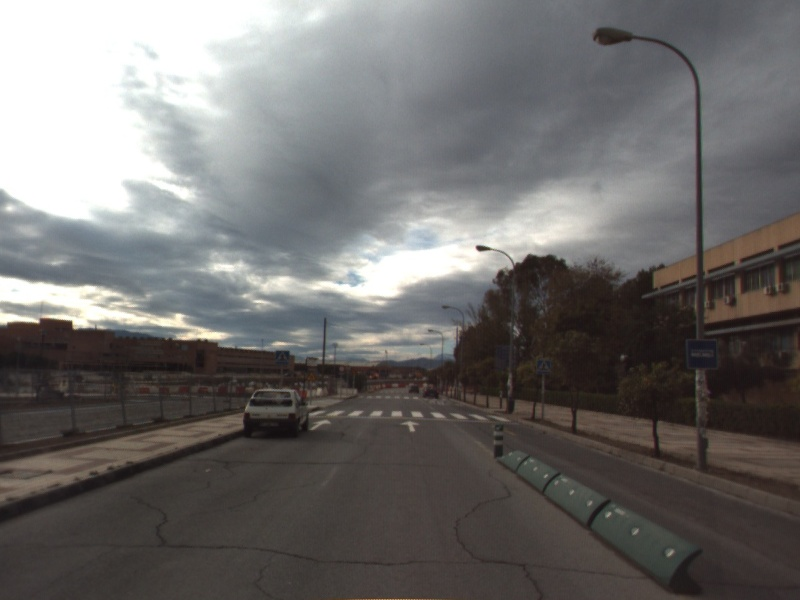STRAIGHT: (307, 417, 333, 432), (398, 418, 422, 434)
